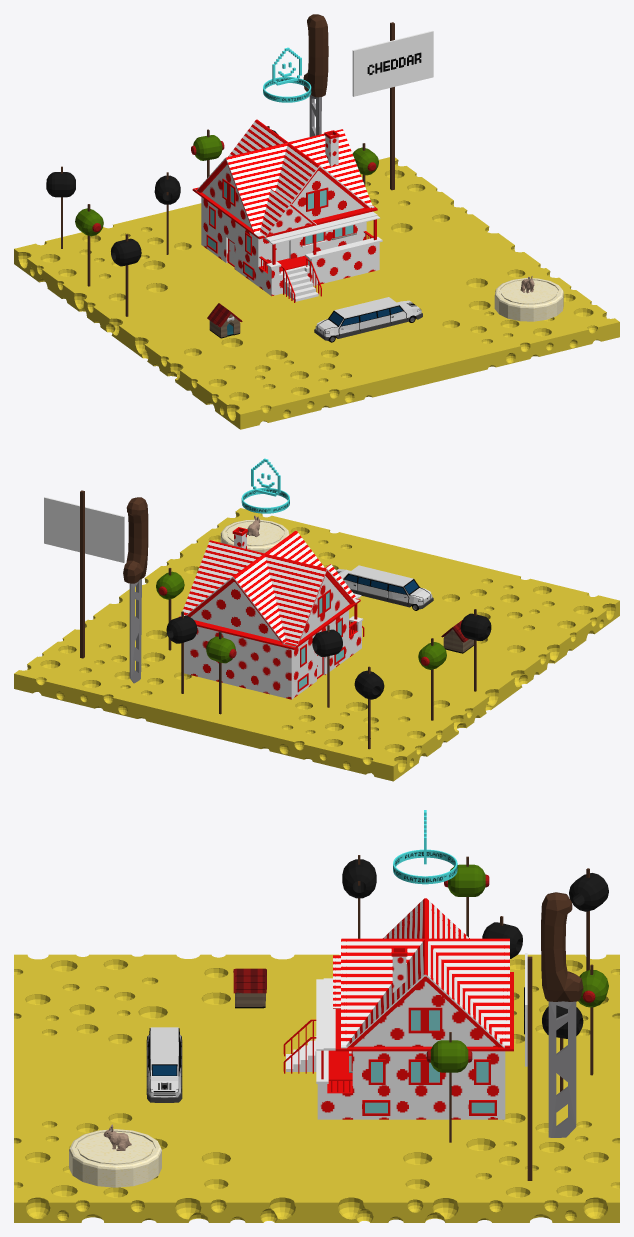
The picture shows the model from 3 angles, top to bottom: view 1: azimuth 30°, elevation 25°; view 2: azimuth 150°, elevation 25°; view 3: azimuth 270°, elevation 25°; orthographic projection. The views are drawn at different scales.
Parts seen in each view (by area): view 1: Cube.022, Cube.196, Cube.023, VEHICLES_LIMOUSINE, Cylinder.016, Cube.024, TYPE_PREMIUM, Sphere.017, Sphere.018, OBJRANDOM_DOGHOUSE, Sphere.016, Sphere.020 (+2 smaller); view 2: Cube.022, Cube.196, Cube.023, Cube.024, VEHICLES_LIMOUSINE, Cylinder.016, TYPE_PREMIUM, Sphere.021, Sphere.017, Sphere.020, Sphere.022, Sphere.016 (+3 smaller); view 3: Cube.022, Cube.196, Cube.024, Cylinder.016, VEHICLES_LIMOUSINE, Cube.023, Sphere.019, Sphere.016, OBJRANDOM_DOGHOUSE, TYPE_PREMIUM, Sphere.017, Sphere.018 (+3 smaller).
Boxes of the visible parts, <box> form: Cube.022: <box>14,157,619,429</box>; Cube.196: <box>192,119,382,302</box>; Cube.023: <box>352,22,433,190</box>; VEHICLES_LIMOUSINE: <box>314,297,422,342</box>; Cylinder.016: <box>494,278,563,321</box>; Cube.024: <box>303,14,328,136</box>; TYPE_PREMIUM: <box>263,47,311,102</box>; Sphere.017: <box>111,234,141,316</box>; Sphere.018: <box>75,204,103,286</box>; OBJRANDOM_DOGHOUSE: <box>207,303,242,338</box>; Sphere.016: <box>46,166,75,248</box>; Sphere.020: <box>154,172,180,254</box>; Cube.022: <box>14,508,619,781</box>; Cube.196: <box>179,527,364,699</box>; Cube.023: <box>44,490,124,658</box>; Cube.024: <box>123,497,148,683</box>; VEHICLES_LIMOUSINE: <box>336,565,433,610</box>; Cylinder.016: <box>220,519,289,553</box>; TYPE_PREMIUM: <box>241,458,289,513</box>; Sphere.021: <box>166,611,197,693</box>; Sphere.017: <box>460,609,491,691</box>; Sphere.020: <box>312,625,342,707</box>; Sphere.022: <box>205,631,236,714</box>; Sphere.016: <box>354,666,384,749</box>; Cube.022: <box>14,954,619,1222</box>; Cube.196: <box>283,898,513,1119</box>; Cube.024: <box>541,892,583,1137</box>; Cylinder.016: <box>69,1129,161,1187</box>; VEHICLES_LIMOUSINE: <box>146,1027,182,1102</box>; Cube.023: <box>524,953,532,1180</box>; Sphere.019: <box>426,1032,472,1142</box>; Sphere.016: <box>569,868,608,970</box>; OBJRANDOM_DOGHOUSE: <box>233,968,266,1008</box>; TYPE_PREMIUM: <box>393,810,457,884</box>; Sphere.017: <box>342,855,376,938</box>; Sphere.018: <box>444,856,489,937</box>.
Bounding box in the file's own units: 3917 × 2247 × 4000.
Materials: 41 (6 with a texture image).
